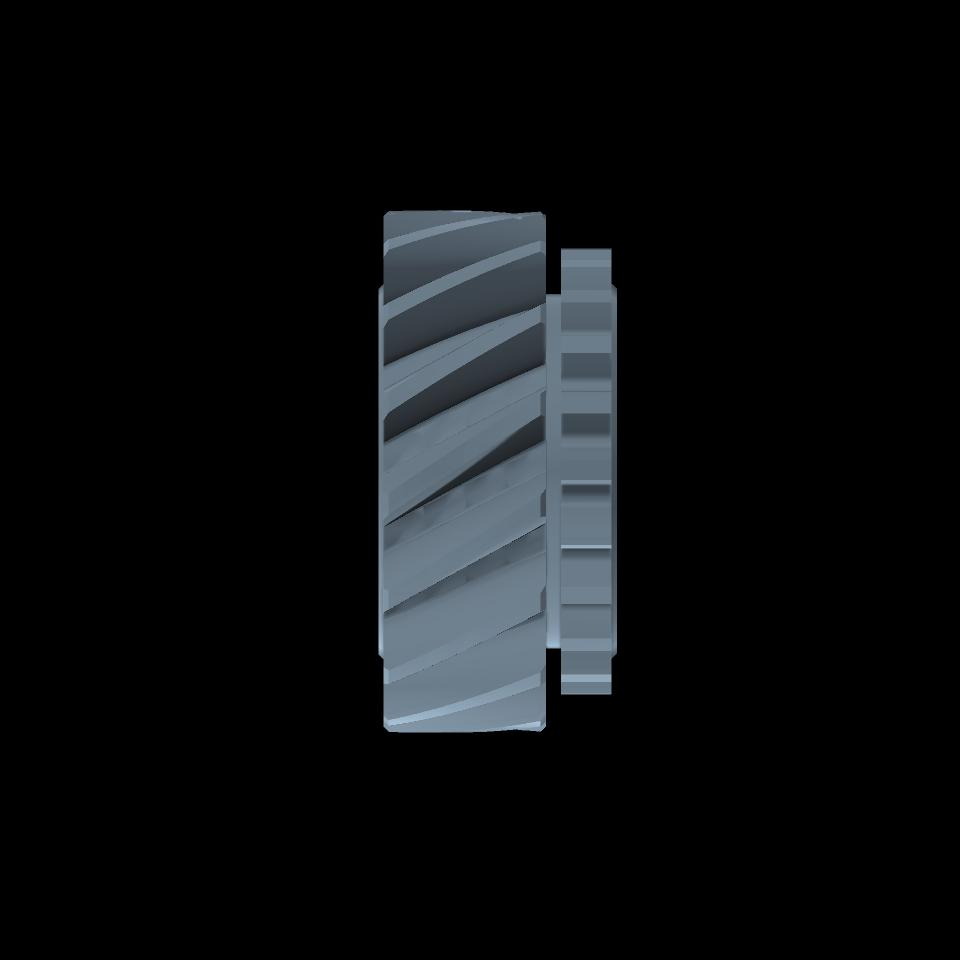Helical: (389, 210, 541, 731)
Straight: (561, 249, 612, 693)
